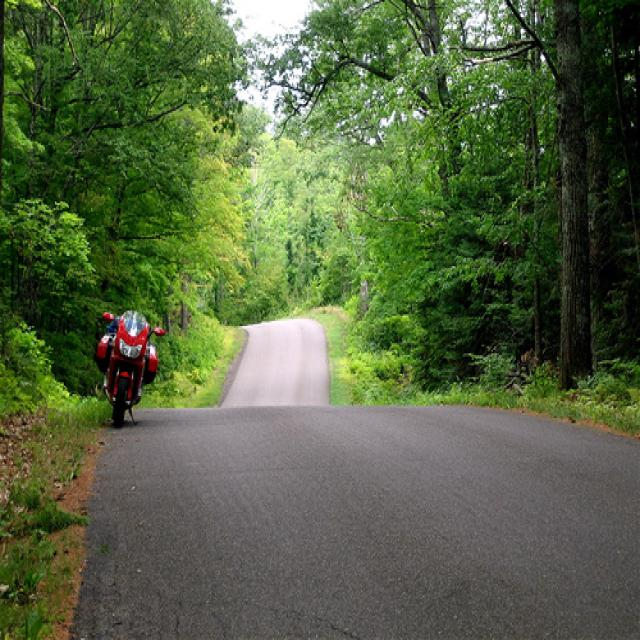motor: (96, 308, 167, 429)
